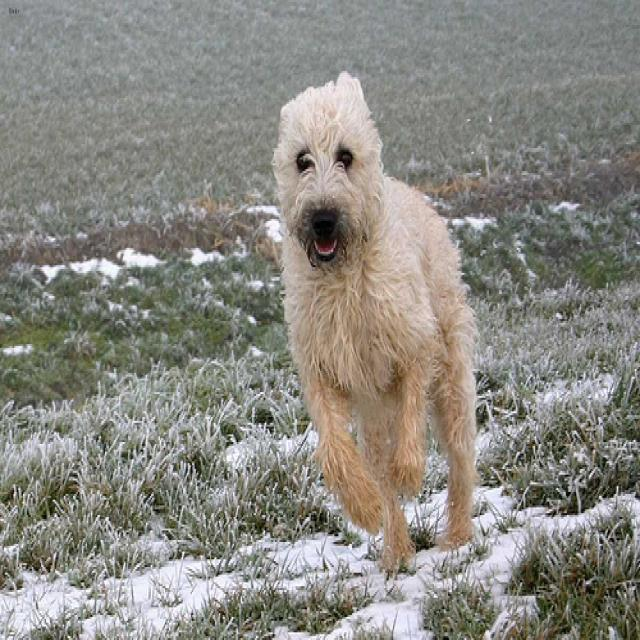dog-wheaten_terrier: (262, 69, 479, 588)
